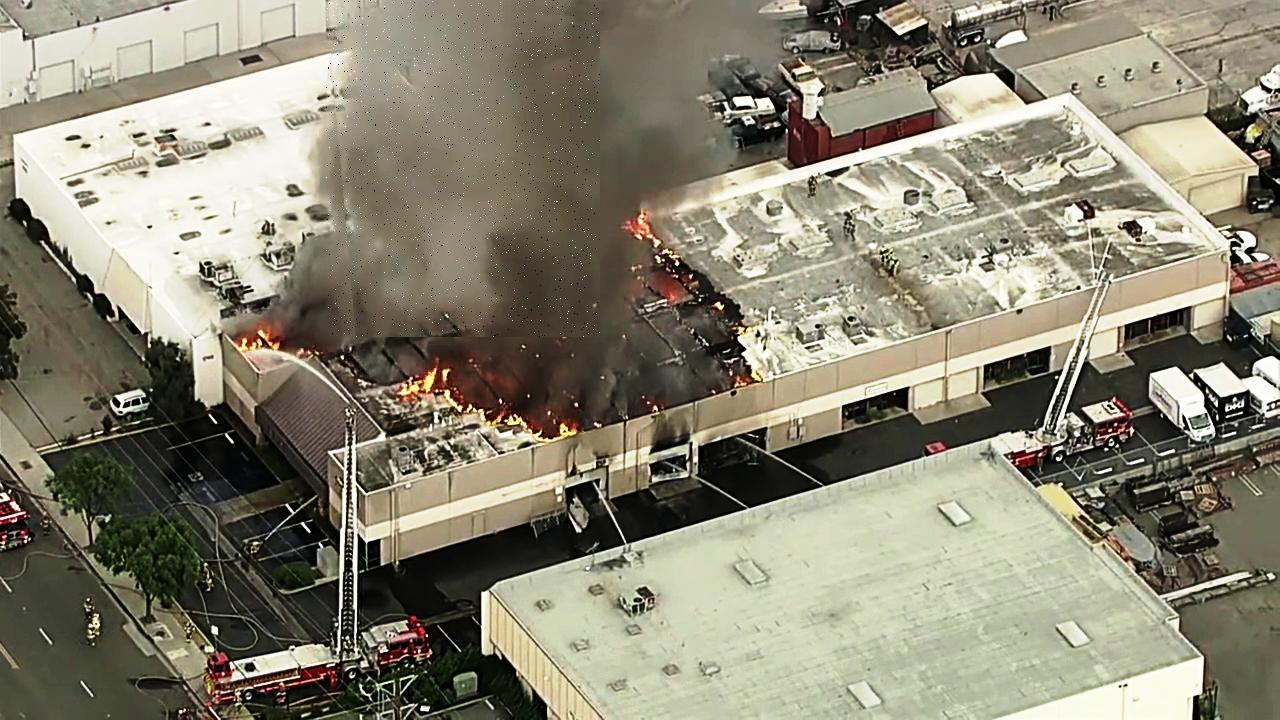smoke: (326, 0, 600, 337)
